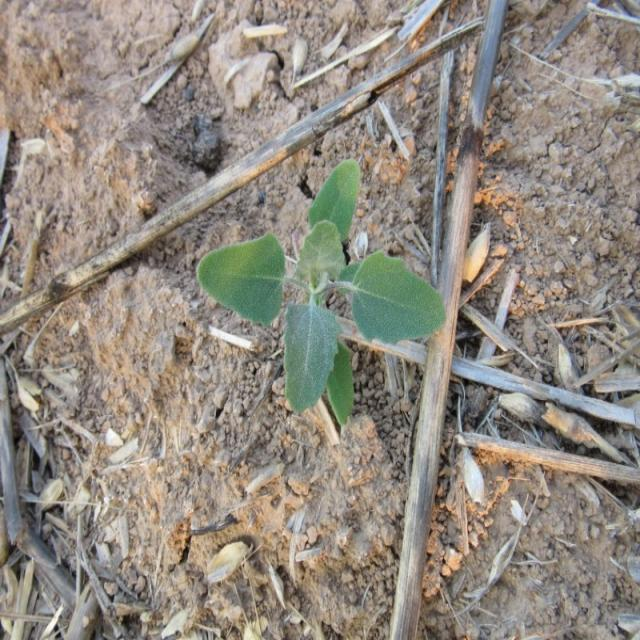ca: (196, 160, 446, 407)
